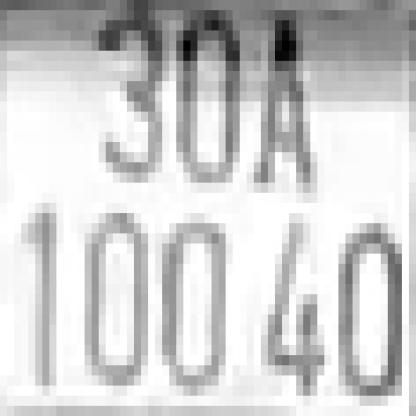0: (155, 203, 233, 396), (324, 213, 402, 396), (78, 203, 155, 385), (176, 10, 240, 193), (21, 203, 78, 385)
4: (247, 203, 324, 396)
A: (247, 10, 317, 193)
